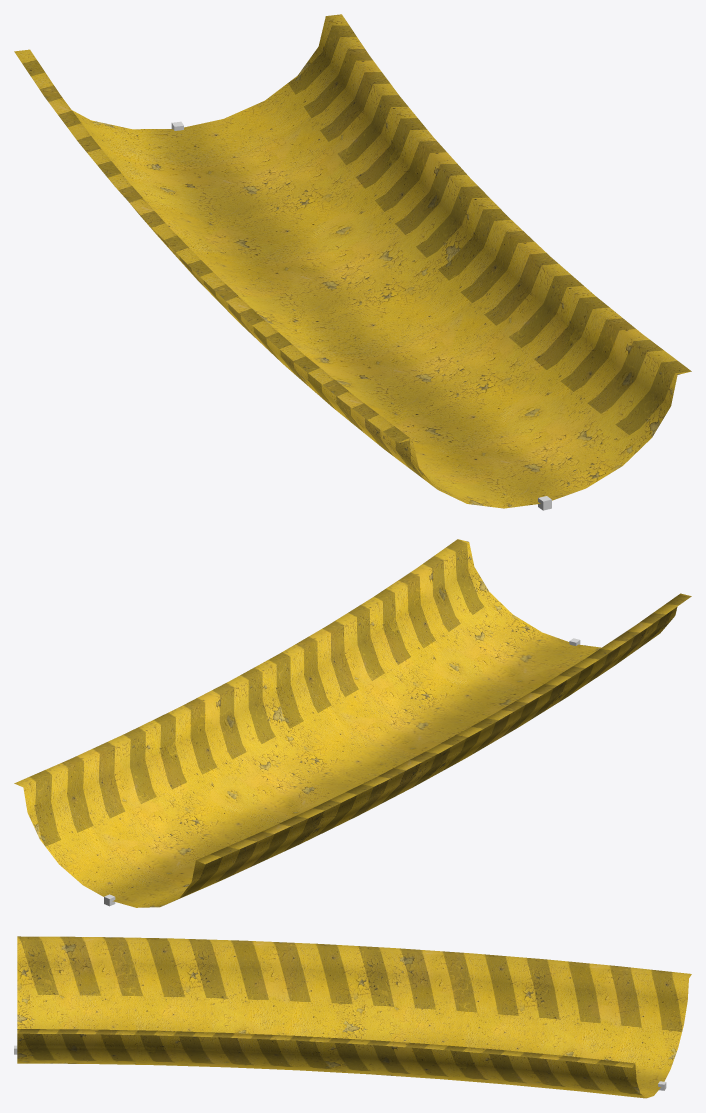
The model's file is roadBend15.R.fbx.
3 renders of one model, top to bottom at view 1: azimuth 30°, elevation 25°; view 2: azimuth 150°, elevation 25°; view 3: azimuth 270°, elevation 25°, orthographic. The views are drawn at different scales.
Visible parts, largest first — view 1: MESH roadBend15.R; view 2: MESH roadBend15.R; view 3: MESH roadBend15.R.
Boxes of the visible parts, bbox=[...] form: MESH roadBend15.R: bbox=[14, 14, 691, 508]; MESH roadBend15.R: bbox=[14, 539, 691, 907]; MESH roadBend15.R: bbox=[17, 936, 691, 1098].
Size of what is drawn, in the model's own units: 2290 by 553 by 4990.
